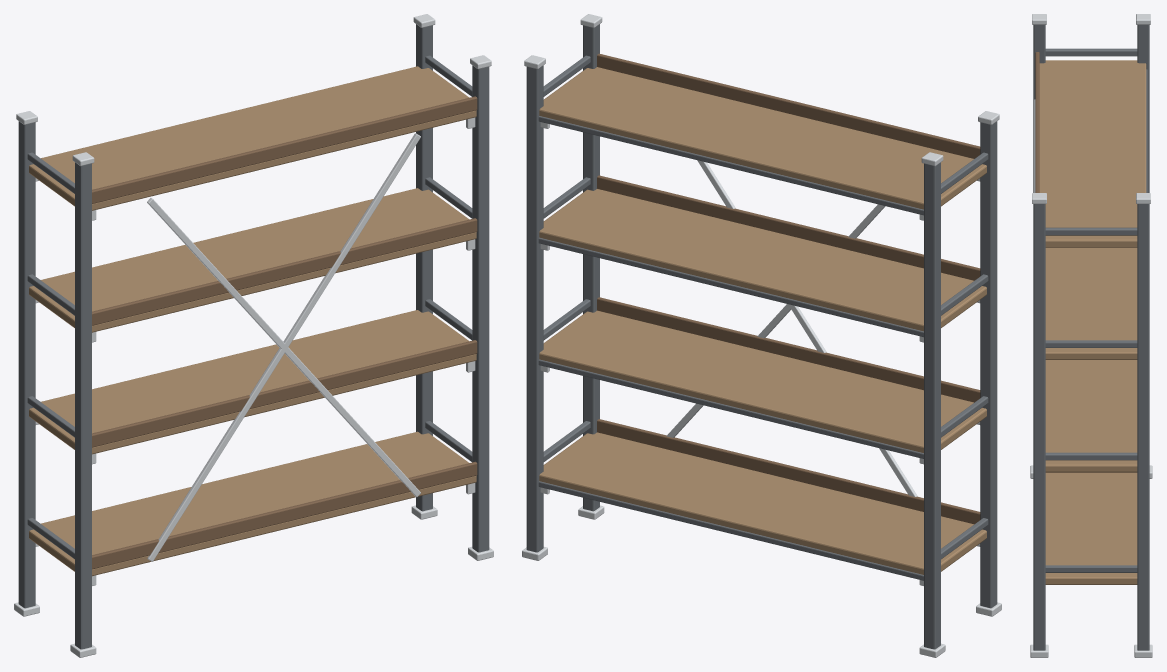
The model's file is SM_ShelfLarge.fbx.
3 renders of one model, left to right at view 1: azimuth 30°, elevation 25°; view 2: azimuth 150°, elevation 25°; view 3: azimuth 270°, elevation 25°, orthographic. The views are drawn at different scales.
Parts seen in each view (by area): view 1: ShelfLarge_Body; view 2: ShelfLarge_Body; view 3: ShelfLarge_Body.
Part boxes in pixels (bbox=[...]): ShelfLarge_Body: bbox=[14, 14, 493, 657]; ShelfLarge_Body: bbox=[522, 14, 1001, 657]; ShelfLarge_Body: bbox=[1030, 14, 1152, 657].
Size of the model in its own units: 185 by 51.2 by 212.
